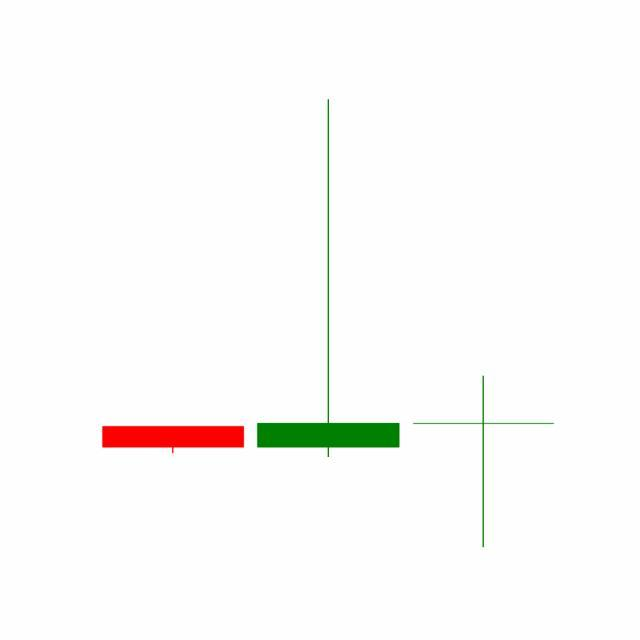Spinning Top: (406, 374, 562, 550)
